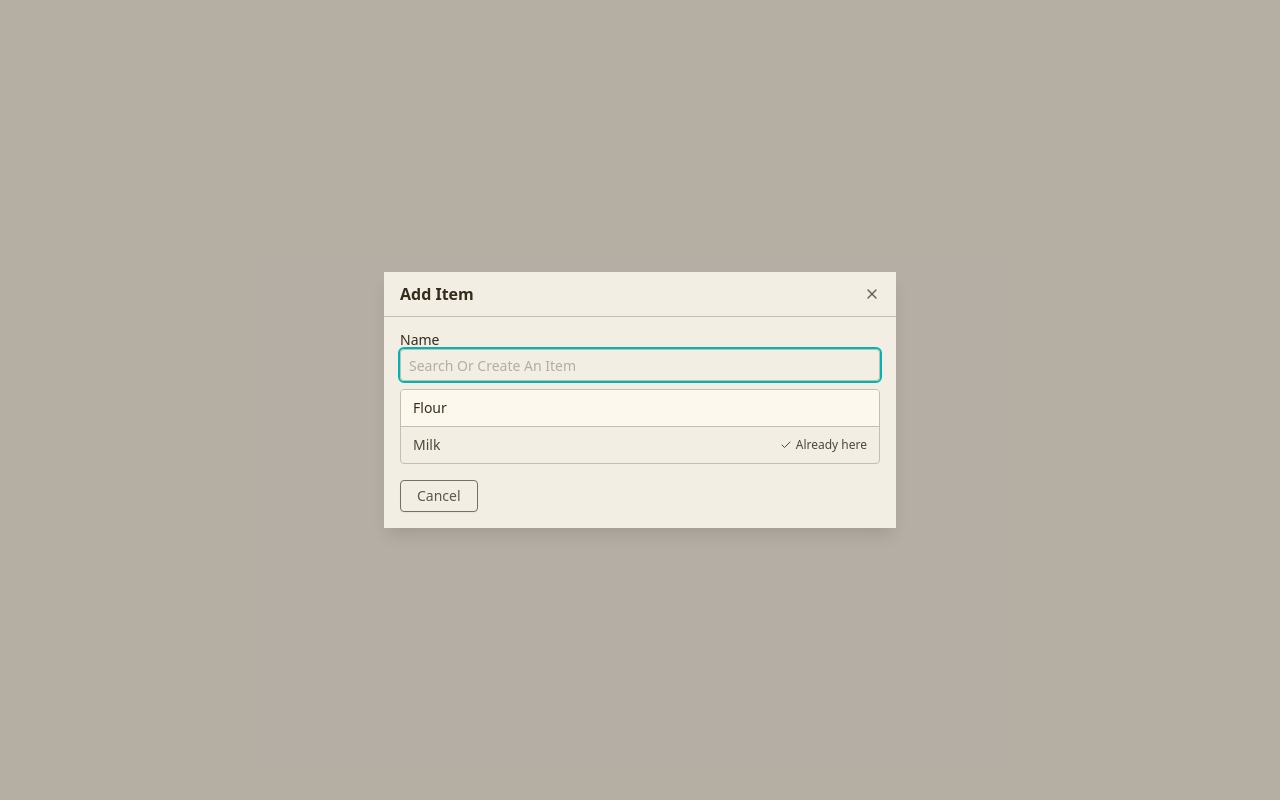
Test: NewItemDialog — cloud mode › user typing a new name in cloud mode still gets the Create path
When the user types a name with no exact match
Type "Sparkling Water" into the dropdown labelled "Name" at (640, 365), box [400,349,880,381]
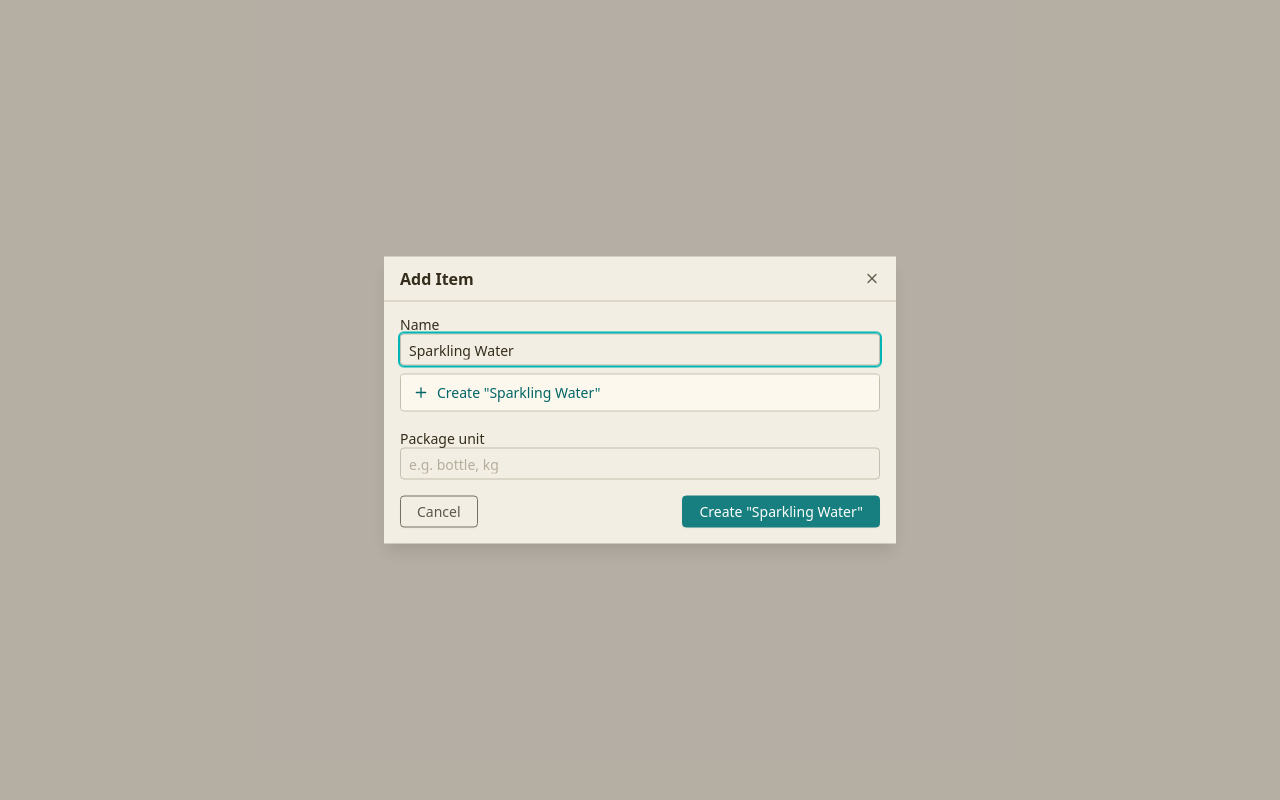
Expected: the option "Create \"Sparkling Water\"" is shown, [401,374,879,410]
